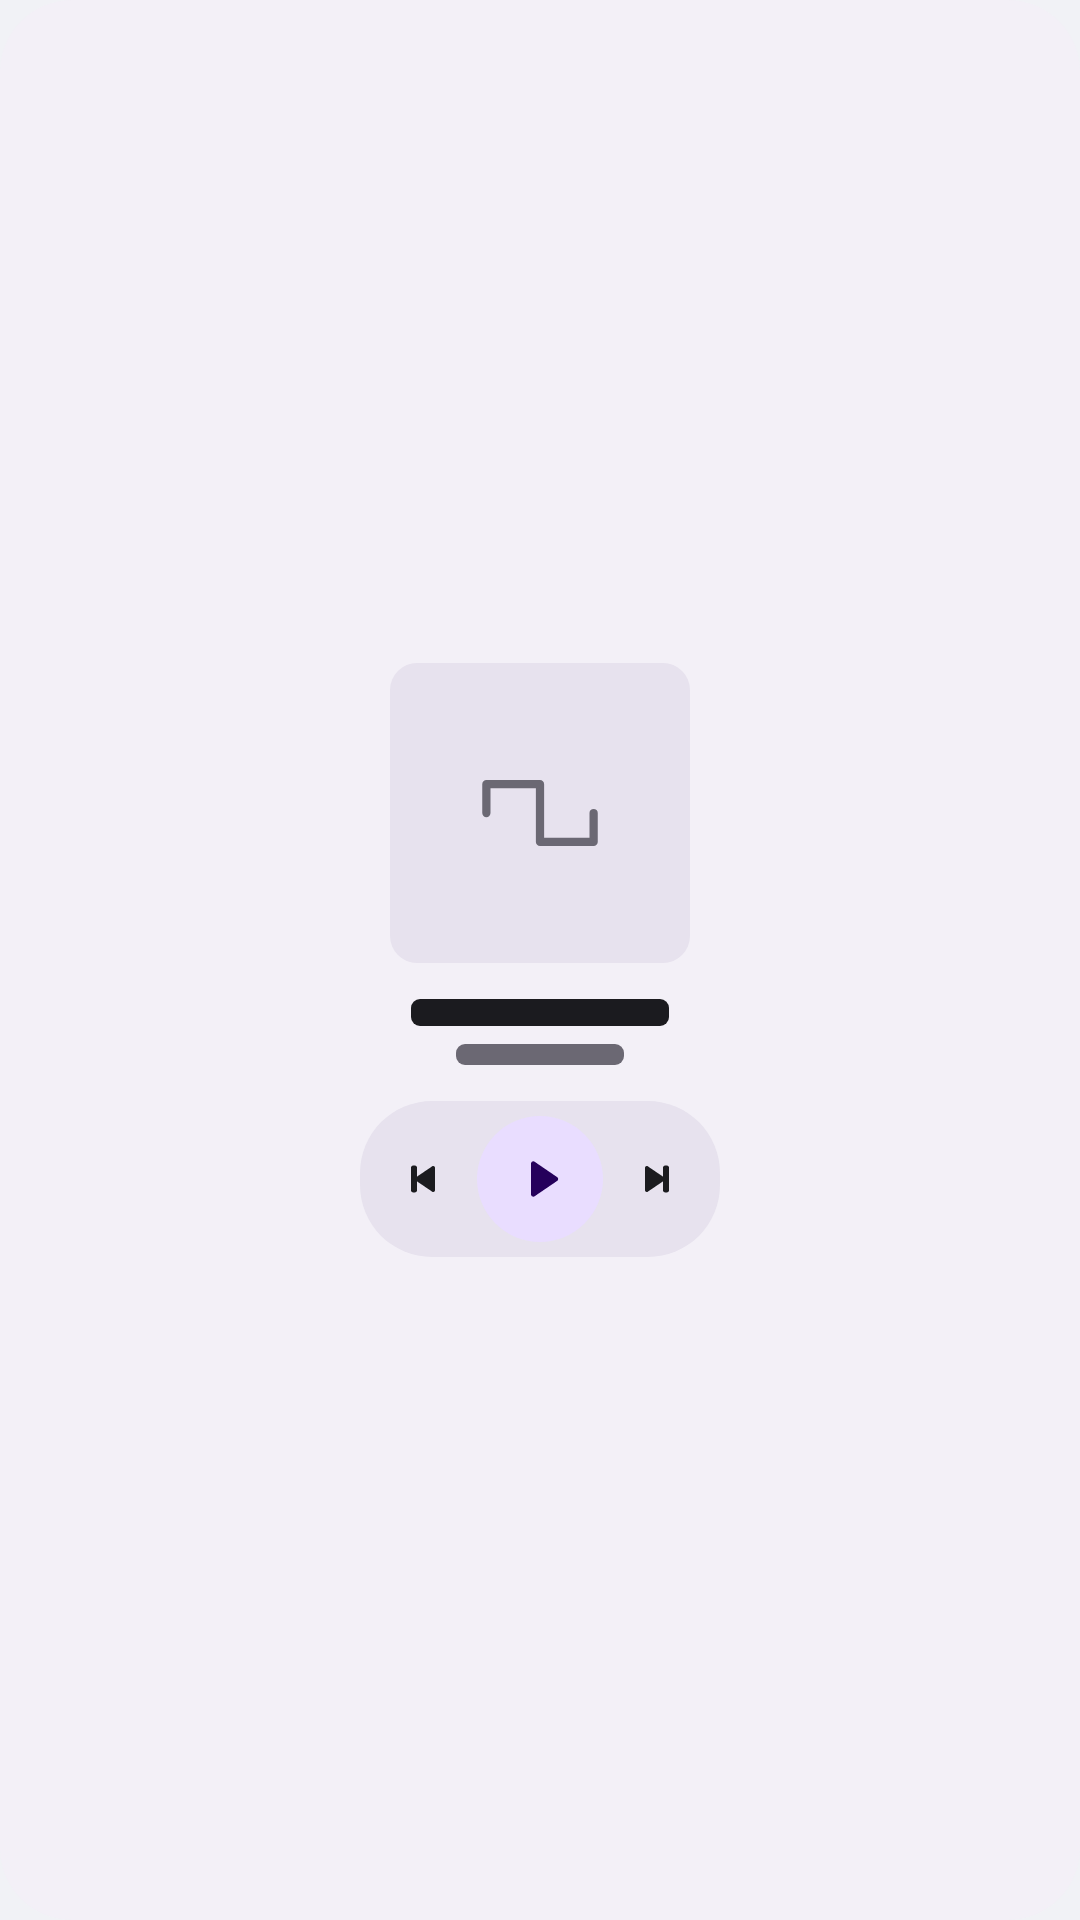

Icon click points for this 1080x1920 phone screenshot, format point (x, y):
widget next: point (657, 1179)
widget play: point (544, 1179)
widget previous: point (423, 1179)
